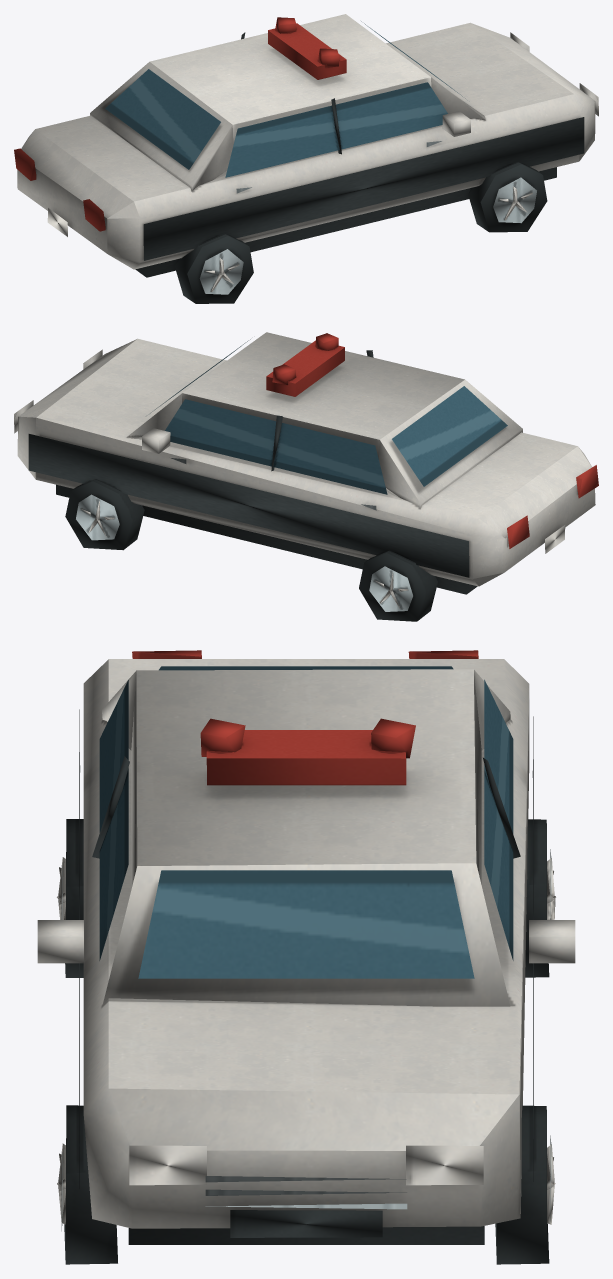
The model's file is patrol_car.lod1.obj.
3 renders of one model, top to bottom at view 1: azimuth 30°, elevation 25°; view 2: azimuth 150°, elevation 25°; view 3: azimuth 270°, elevation 25°, orthographic. The views are drawn at different scales.
Parts seen in each view (by area): view 1: patrol_car; view 2: patrol_car; view 3: patrol_car.
Part boxes in pixels (<box>): patrol_car: <box>14,14,598,303</box>; patrol_car: <box>14,332,598,621</box>; patrol_car: <box>37,650,575,1264</box>.
Bounding box in the file's own units: 4.62 × 1.68 × 2.15.
1 material, 1 textured.
